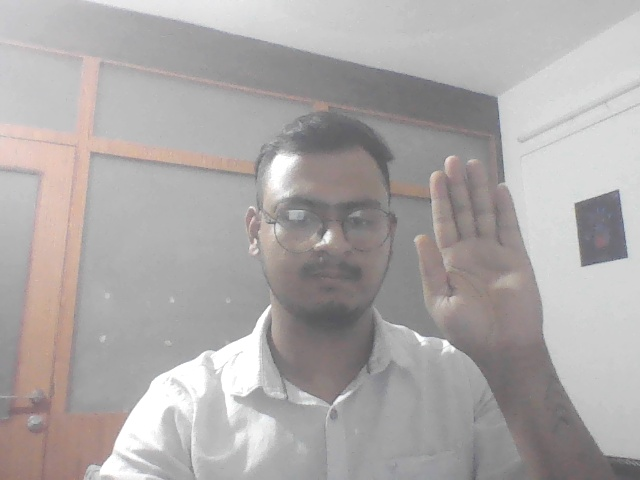Hello: (410, 149, 555, 367)
